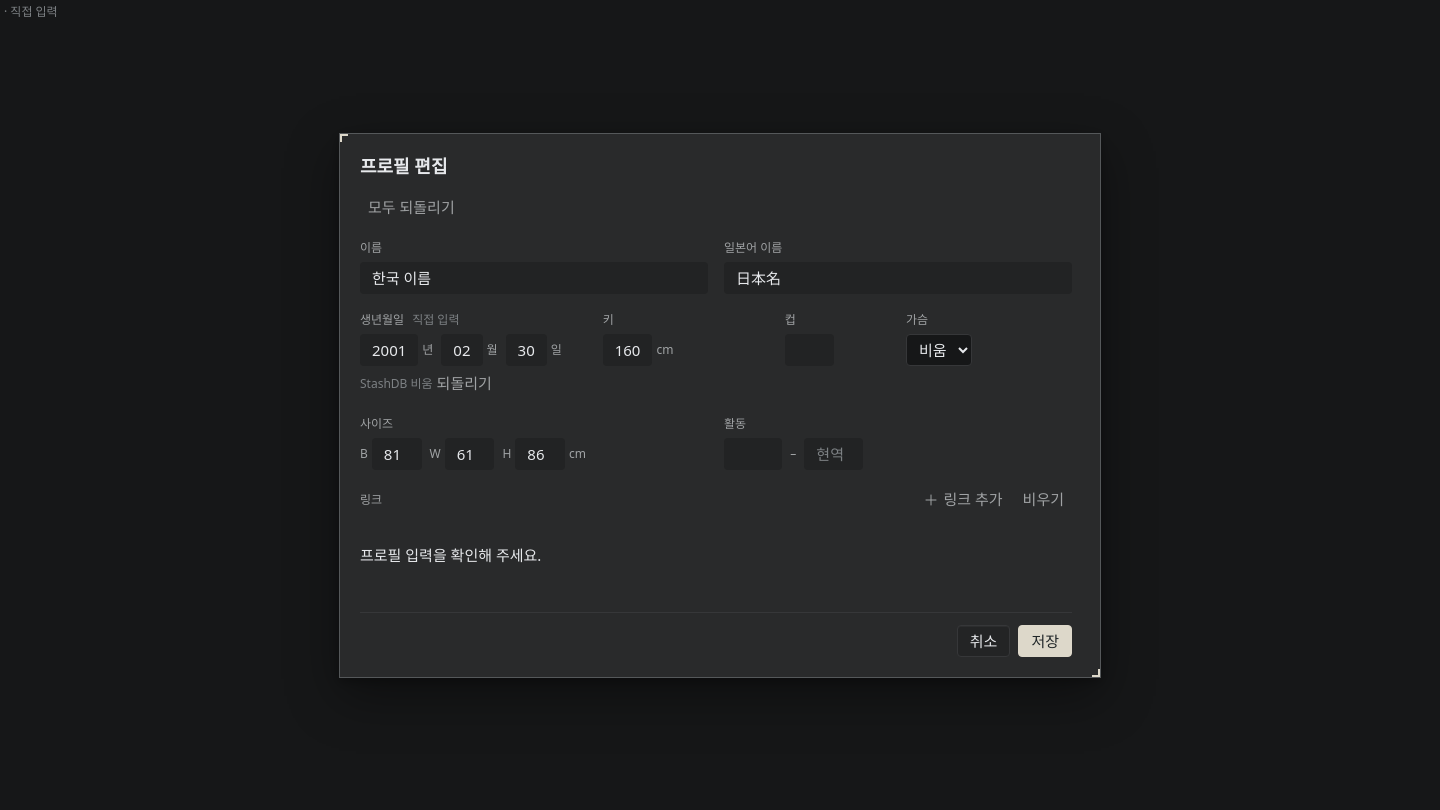
it: shows a compare popover for an explicit empty override
The width and height of the screenshot is (1440, 810).
Click the button with aria-label "키 직접 입력 비교" at (31, 12), box [0,2,62,22]
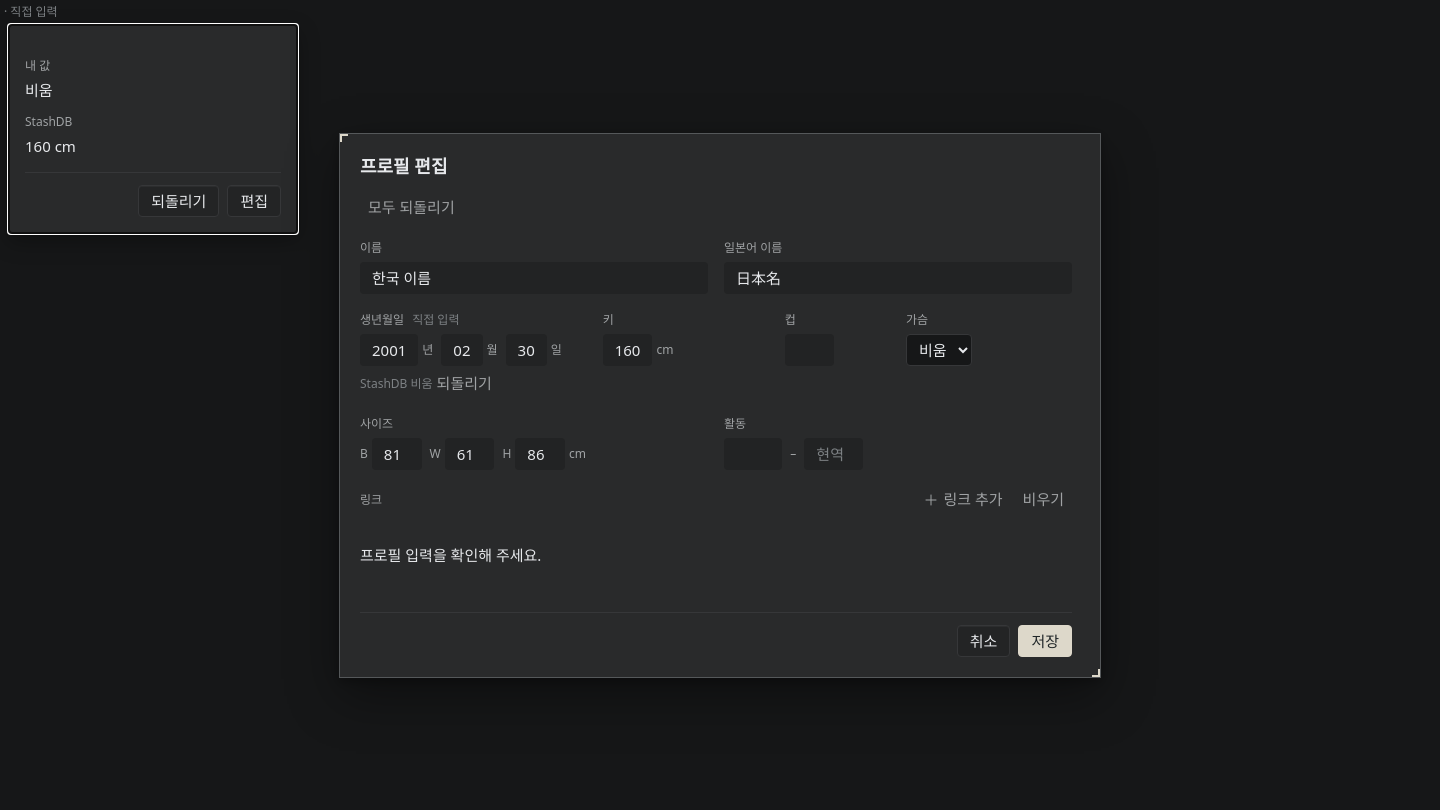
Now the dialog named "키 비교" shows "비움", box [25,80,53,100]
Now the dialog shows "160 cm", box [25,136,76,156]
Press Escape
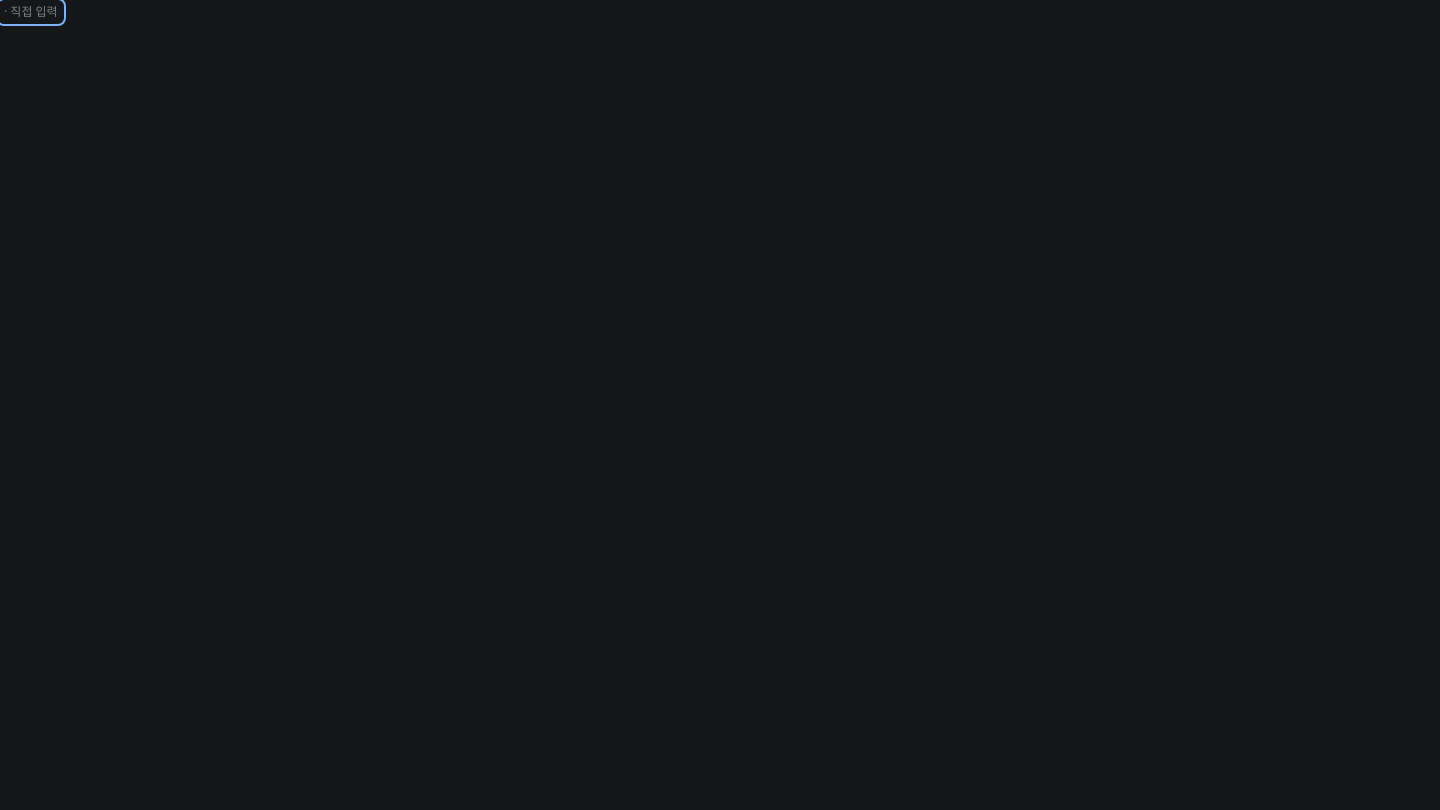
Now the dialog is gone
